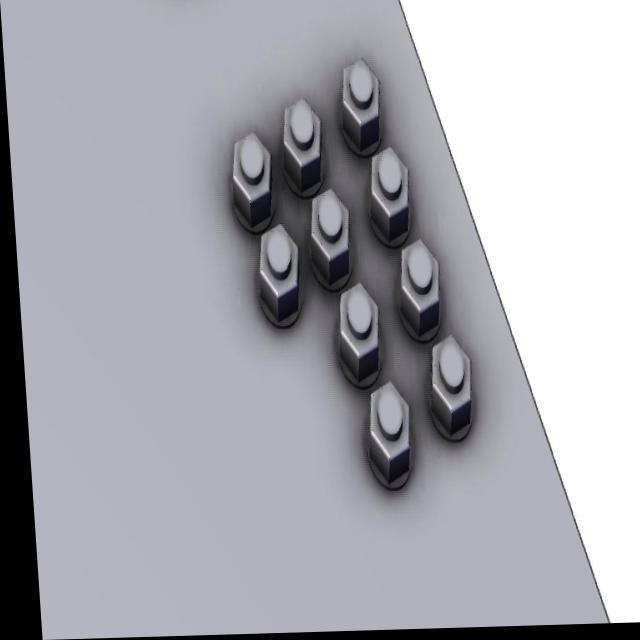Regular bolt: (421, 338, 473, 442), (359, 382, 409, 489), (304, 189, 351, 293), (363, 149, 412, 246), (252, 223, 299, 323), (392, 243, 440, 340), (332, 283, 379, 381), (227, 134, 274, 231), (279, 100, 324, 197), (337, 59, 383, 153)
